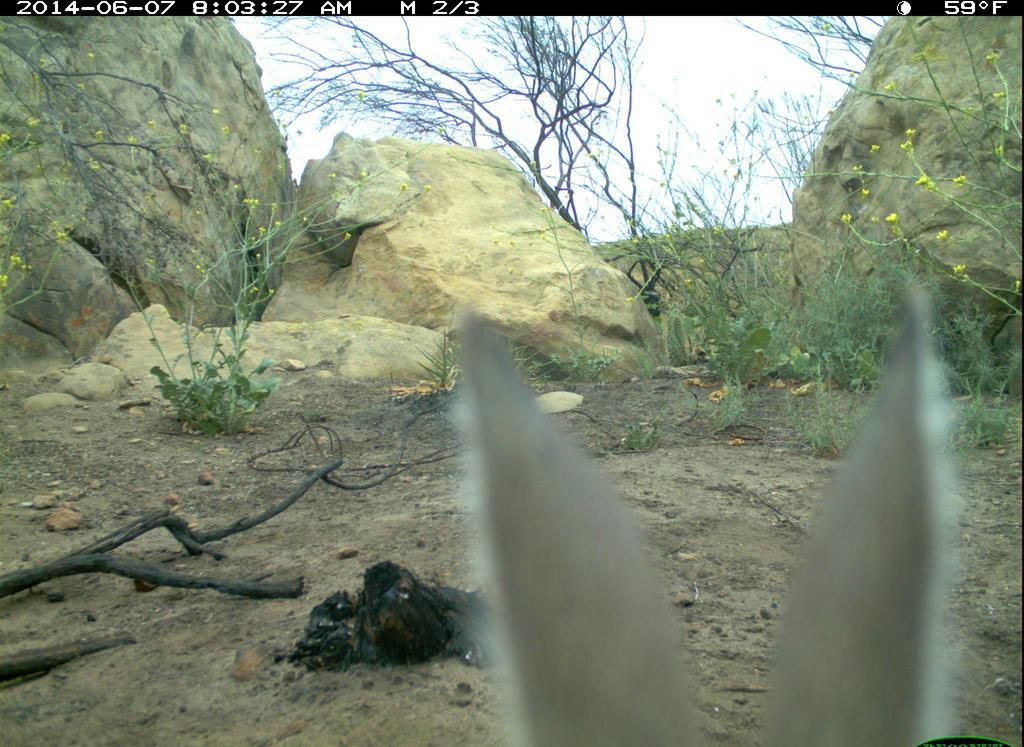rabbit: (428, 267, 971, 742)
